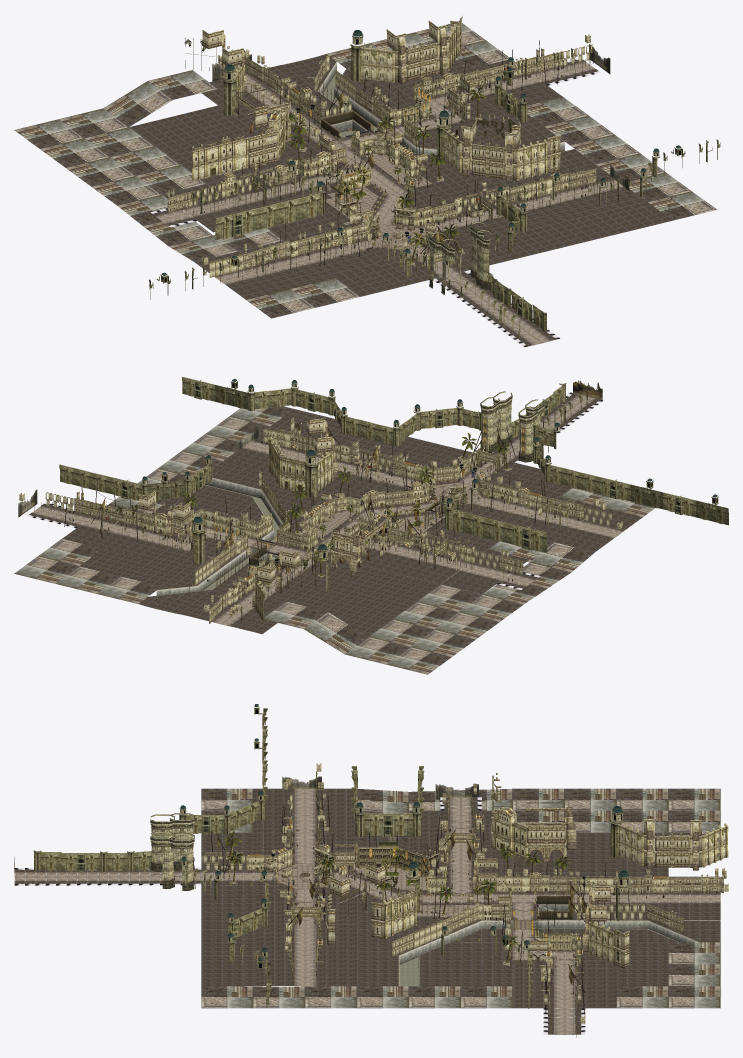
The model's file is map_T01_01.glb.
The picture shows the model from 3 angles, top to bottom: view 1: azimuth 30°, elevation 25°; view 2: azimuth 150°, elevation 25°; view 3: azimuth 270°, elevation 25°; orthographic projection. The views are drawn at different scales.
Parts seen in each view (by area): view 1: default_ground, FM_T01_road01_AAA (×12), OM_09_wv_bldg01DC (×3), FM_T01_road01_AJA (×4), OM_09_wv_bldg01DA (×2), OM_09_wv_bldg01BD, OM_09_wv_bldg01AB (×2), FM_T01_road01_BJA (×2), OM_09_sn_T01Wall01A, OM_09_wv_tunnel01A (×2), OM_09_wv_bldg01BB (×2), FM_T01_road01_AQA (×2) (+35 smaller); view 2: default_ground, FM_T01_road01_AAA (×12), OM_09_wv_bldg01DC (×4), OM_09_sn_T01Wall04A (×7), OM_09_sn_T01Wall01A (×4), FM_T01_road01_AQA (×4), OM_09_sn_T01Wall07A (×4), OM_09_wv_tunnel01A (×3), FM_T01_road01_BOA (×2), OM_09_wv_bldg01DA, OM_09_hy_gate01A (×2), FM_T01_road01_AJA (×2) (+38 smaller); view 3: default_ground, FM_T01_road01_AAA (×13), OM_09_wv_bldg01DC (×3), OM_09_wv_bldg01DA (×2), FM_T01_road01_AJA (×4), FM_T01_road01_AQA (×4), OM_09_sn_T01Wall04A (×3), FM_T01_road01_BOA (×2), OM_09_wv_bldg01EF (×3), FM_T01_road01_BJA (×2), FM_T01_road01_BUA (×2), OM_09_wv_bldg01DB (+39 smaller).
Part boxes in pixels (box(x1,y1,x2,y2)): default_ground: box(14, 23, 716, 318); FM_T01_road01_AAA (×12): box(129, 105, 672, 296); OM_09_wv_bldg01DC (×3): box(184, 21, 547, 182); FM_T01_road01_AJA (×4): box(188, 203, 378, 299); OM_09_wv_bldg01DA (×2): box(234, 88, 373, 241); OM_09_wv_bldg01BD: box(189, 135, 248, 181); OM_09_wv_bldg01AB (×2): box(299, 75, 494, 176); FM_T01_road01_BJA (×2): box(466, 78, 562, 118); OM_09_sn_T01Wall01A: box(258, 193, 320, 229); OM_09_wv_tunnel01A (×2): box(237, 166, 515, 221); OM_09_wv_bldg01BB (×2): box(442, 68, 596, 192); FM_T01_road01_AQA (×2): box(162, 184, 262, 280); default_ground: box(14, 406, 654, 674); FM_T01_road01_AAA (×12): box(79, 409, 572, 636); OM_09_wv_bldg01DC (×4): box(116, 416, 466, 621); OM_09_sn_T01Wall04A (×7): box(109, 377, 695, 552); OM_09_sn_T01Wall01A (×4): box(59, 416, 597, 543); FM_T01_road01_AQA (×4): box(441, 505, 618, 594); OM_09_sn_T01Wall07A (×4): box(148, 379, 728, 525); OM_09_wv_tunnel01A (×3): box(343, 440, 515, 567); FM_T01_road01_BOA (×2): box(62, 521, 168, 558); OM_09_wv_bldg01DA: box(331, 513, 420, 578); OM_09_hy_gate01A (×2): box(480, 391, 512, 452); FM_T01_road01_AJA (×2): box(465, 508, 642, 577); default_ground: box(201, 788, 720, 1008); FM_T01_road01_AAA (×13): box(201, 832, 668, 986); OM_09_wv_bldg01DC (×3): box(327, 812, 728, 963); OM_09_wv_bldg01DA (×2): box(317, 802, 576, 871); FM_T01_road01_AJA (×4): box(253, 788, 460, 854); FM_T01_road01_AQA (×4): box(305, 788, 512, 854); OM_09_sn_T01Wall04A (×3): box(60, 813, 412, 871); FM_T01_road01_BOA (×2): box(564, 964, 616, 1008); OM_09_wv_bldg01EF (×3): box(437, 874, 723, 934); FM_T01_road01_BJA (×2): box(513, 964, 564, 1008); FM_T01_road01_BUA (×2): box(618, 898, 720, 920); OM_09_wv_bldg01DB: box(371, 882, 416, 938).
Size of the model in its own units: 408 by 47.25 by 413.
421 materials, 421 textured.
